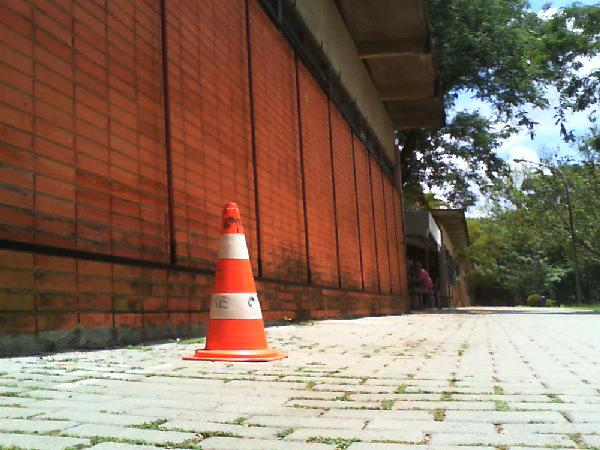0 cone: (182, 203, 288, 362)
